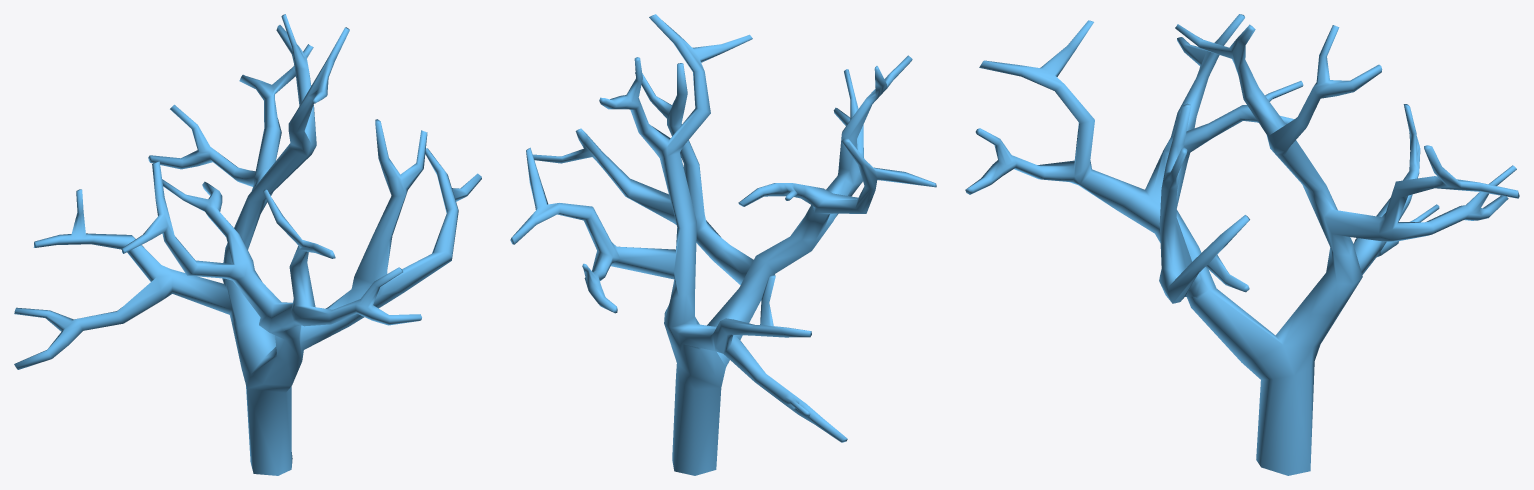
Rendered from Staghorn Coral.fbx.
The picture shows the model from 3 angles, left to right: view 1: azimuth 30°, elevation 25°; view 2: azimuth 150°, elevation 25°; view 3: azimuth 270°, elevation 25°; orthographic projection. The views are drawn at different scales.
Visible parts, largest first — view 1: Object018; view 2: Object018; view 3: Object018.
Boxes of the visible parts, box(x1,y1,x2,y2) form: Object018: box(14, 14, 481, 475); Object018: box(510, 14, 936, 475); Object018: box(965, 14, 1519, 475).
Bounding box in the file's own units: 37.36 × 39.31 × 41.8.
